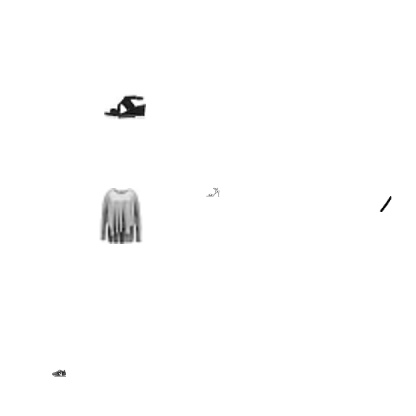1: (375, 193, 397, 215)
Pullover: (92, 188, 148, 244)
Sandal: (104, 86, 146, 128), (206, 185, 220, 199)
Sneaker: (52, 366, 66, 380)
